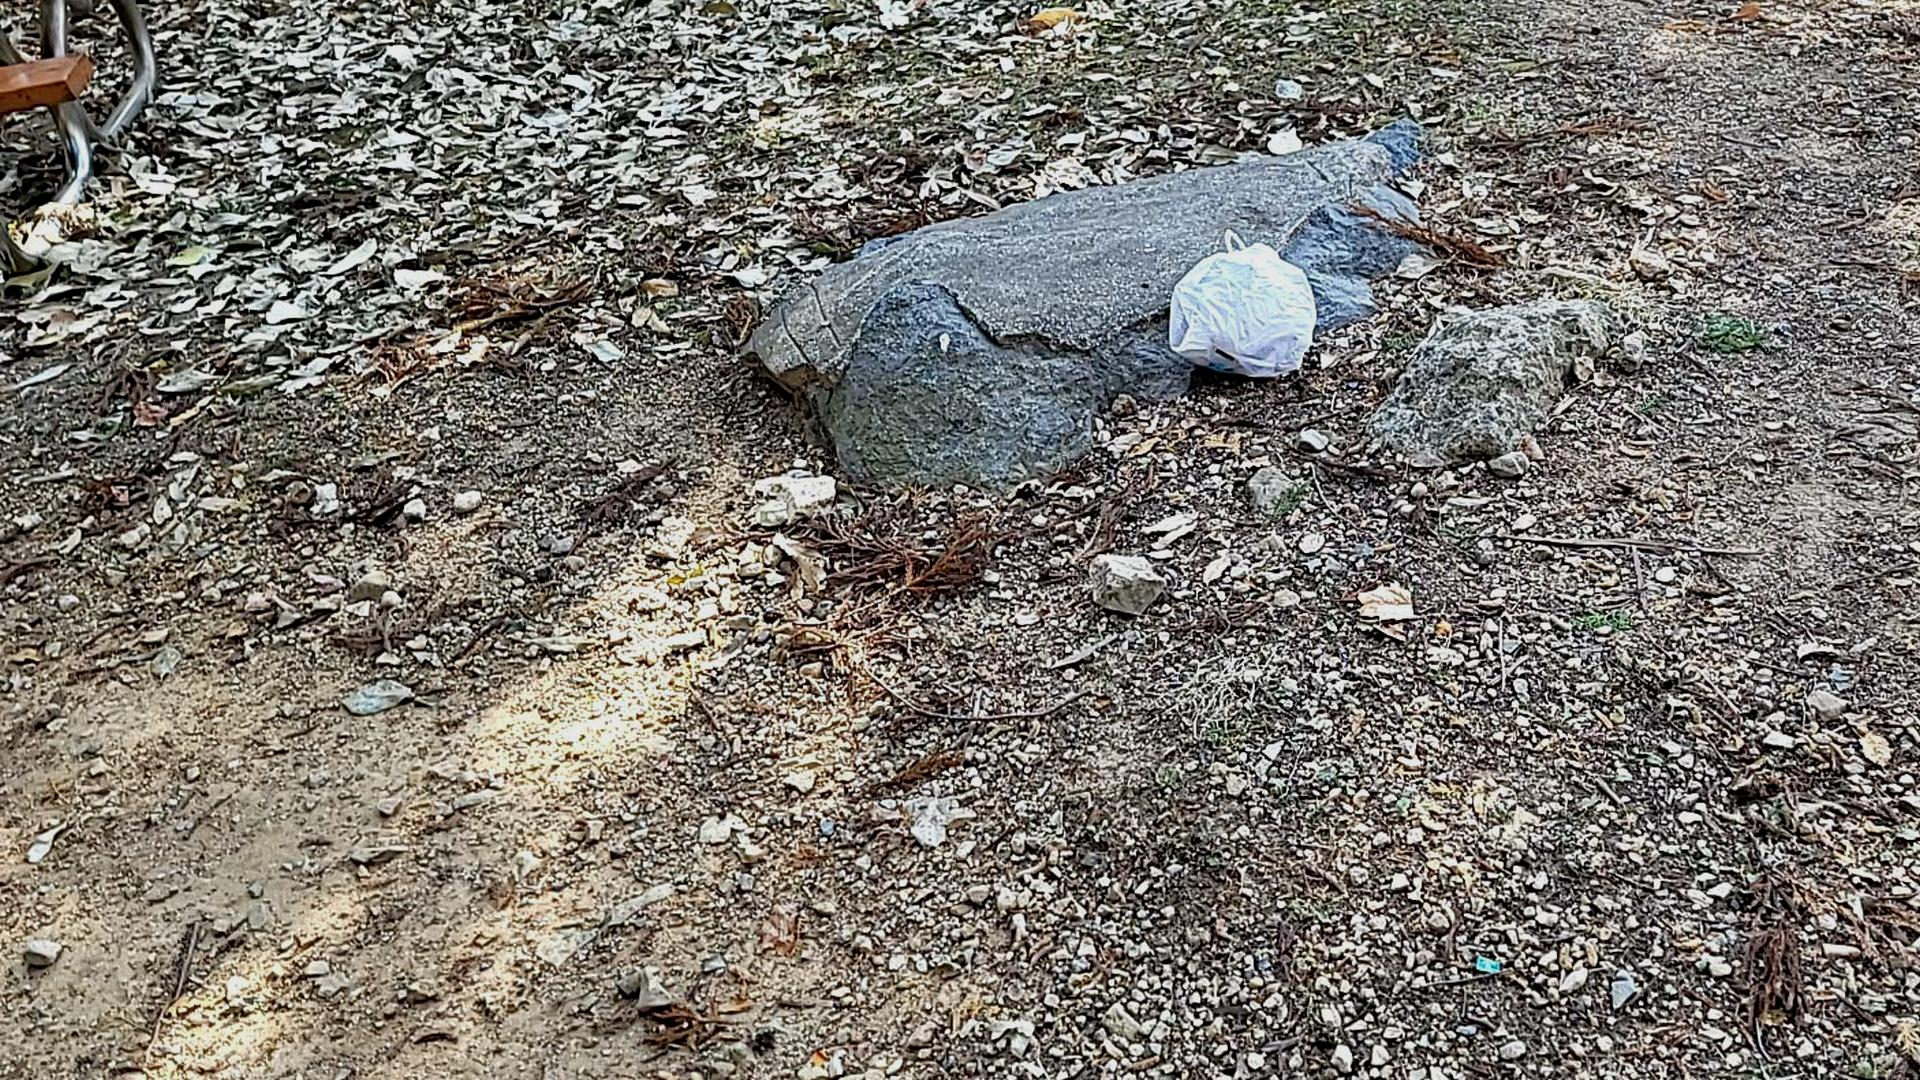white_bag: (1145, 216, 1324, 392)
